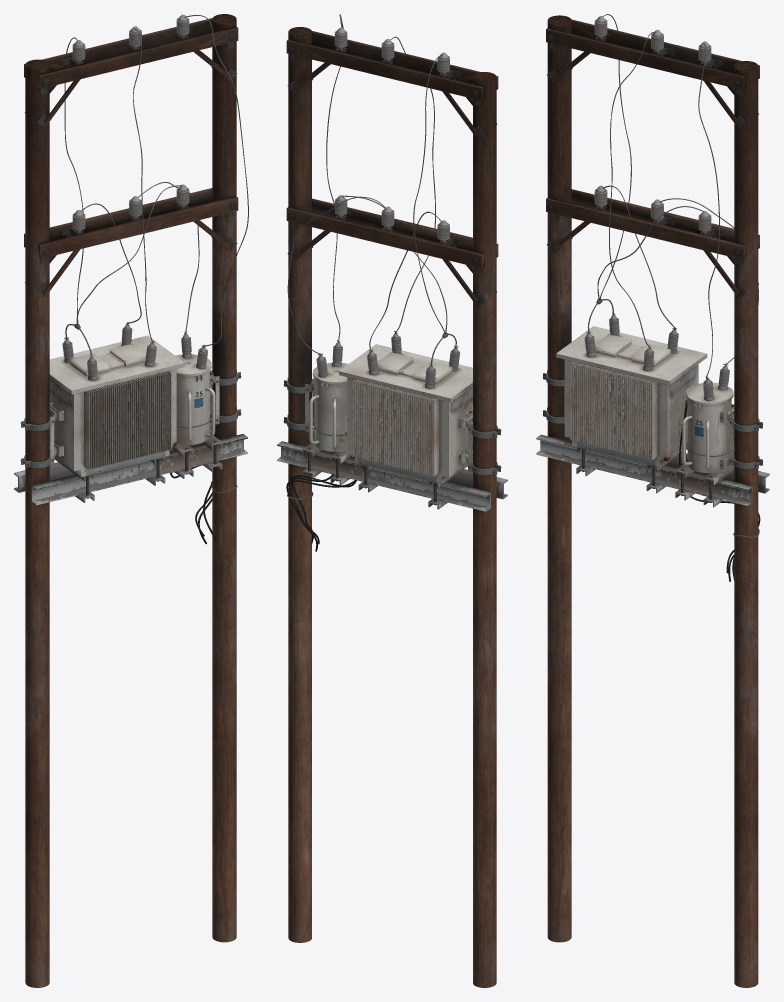
File: wood_pole_05.fbx
3 renders of one model, left to right at view 1: azimuth 30°, elevation 25°; view 2: azimuth 150°, elevation 25°; view 3: azimuth 330°, elevation 25°, orthographic.
Visible parts, largest first — view 1: 5_wood_pole; view 2: 5_wood_pole; view 3: 5_wood_pole.
Part boxes in pixels (left/top/right/bottom): 5_wood_pole: left=14, top=14, right=248, bottom=987; 5_wood_pole: left=277, top=14, right=507, bottom=987; 5_wood_pole: left=536, top=14, right=769, bottom=987.
Bounding box in the file's own units: 340 × 1412 × 136.
1 material, 1 textured.
